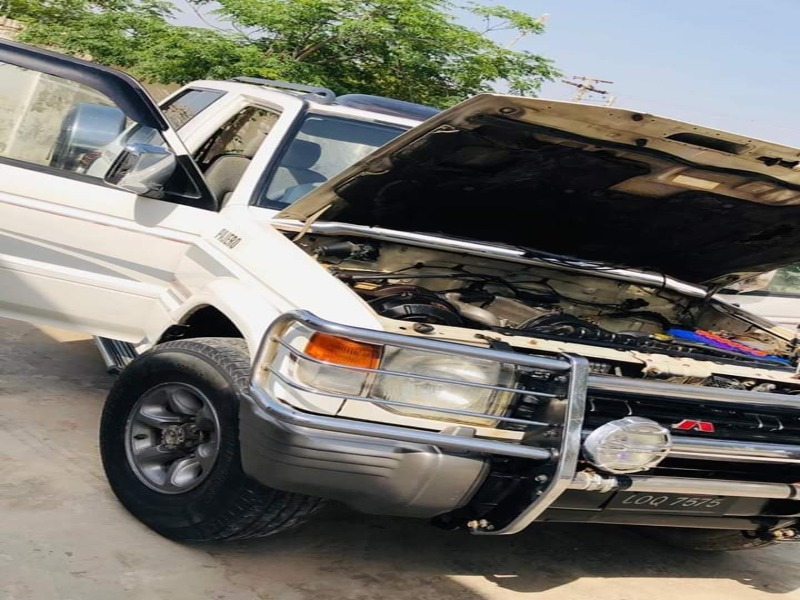License Plate: (603, 486, 739, 520)
